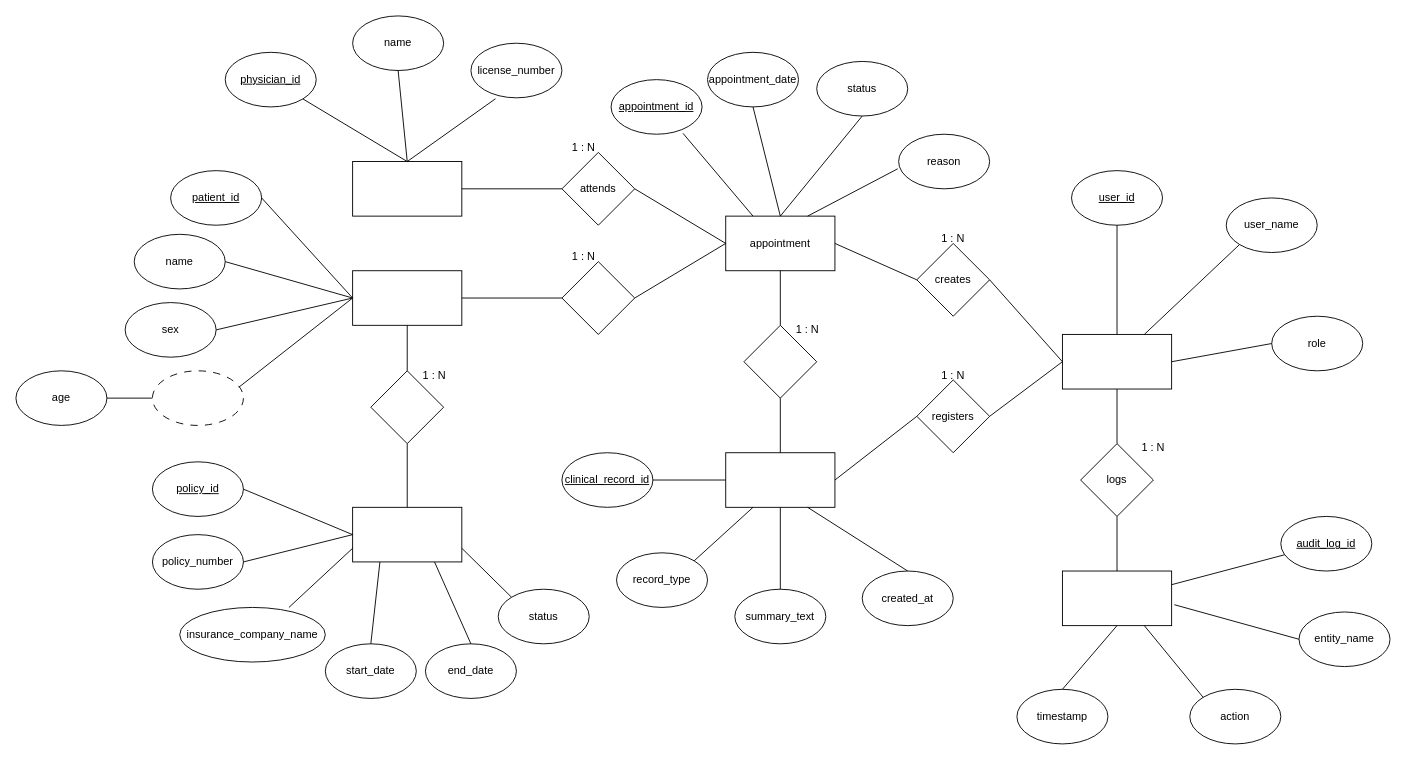
Some shapes in this 1406 by 760 pixel diagram are drawn without their labels. Each missing label, with the box of its shape:
audit_log: (1062, 570, 1172, 626)
birth_date: (152, 370, 243, 425)
clinical_record: (725, 452, 835, 507)
generates: (743, 324, 817, 398)
has: (561, 261, 635, 334)
holds: (370, 370, 444, 444)
insurance_policy: (352, 506, 462, 562)
patient: (352, 270, 462, 325)
physician: (352, 161, 462, 216)
user: (1062, 334, 1172, 389)
